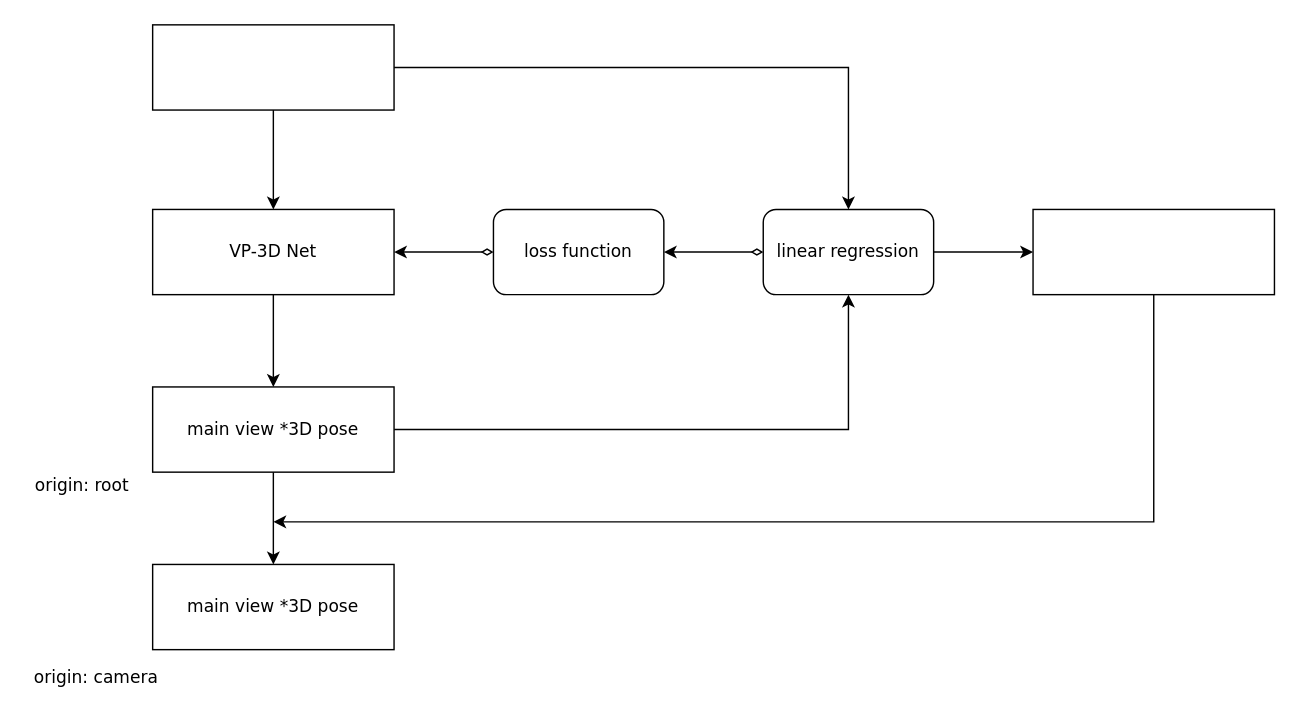
Some shapes in this 1299 by 717 pixel diagram are drawn without their labels. The centre of each missing label's shape, as x and y in pixels:
"main view 2D pose" goes at [272,66].
"root position" goes at [1153,251].
